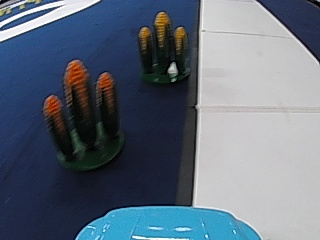corn: (42, 60, 124, 173), (136, 13, 191, 85)
